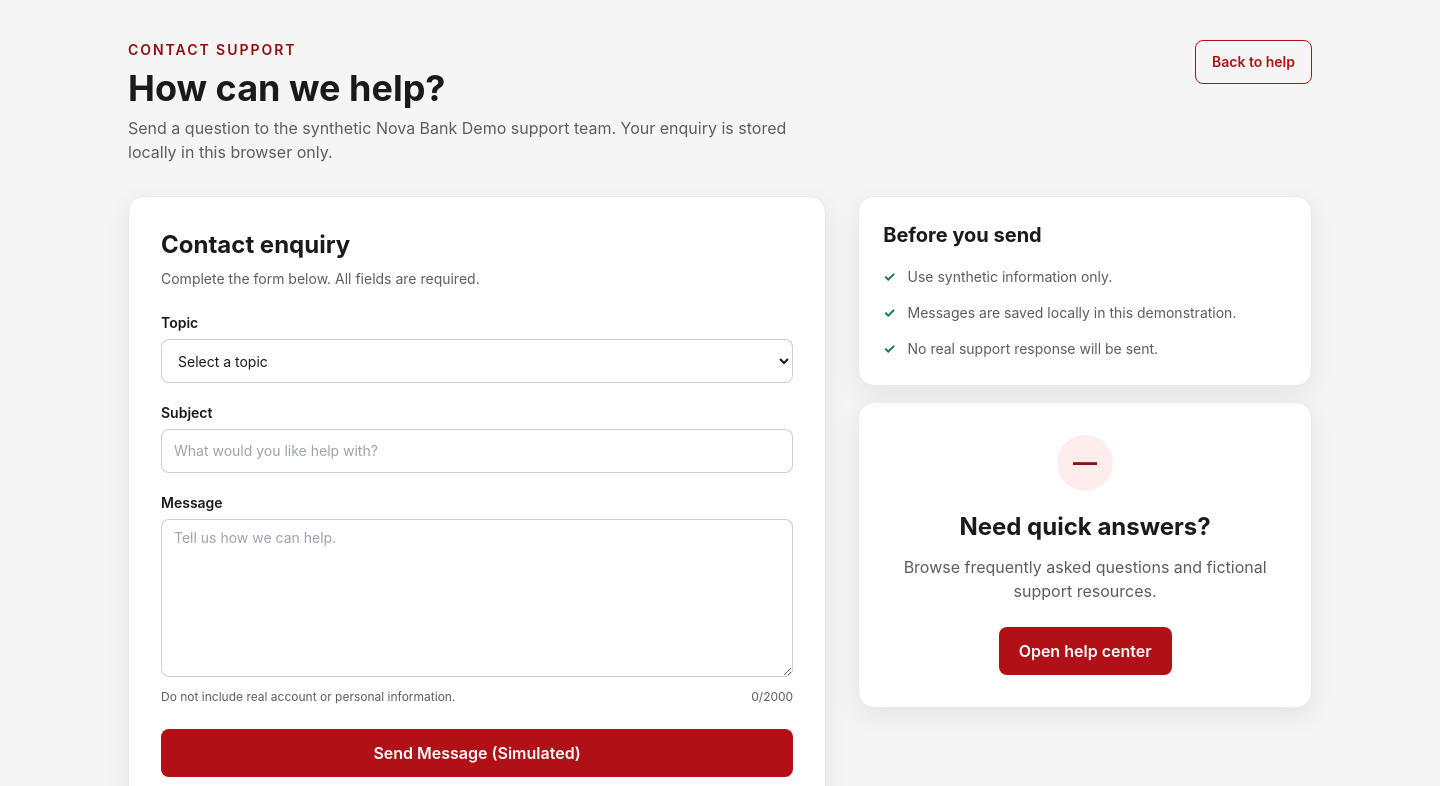
Test case: ContactPage › shows accessible validation feedback when required fields are empty
Click the button "Send Message (Simulated)". click: (477, 753)
box: [161,729,793,777]
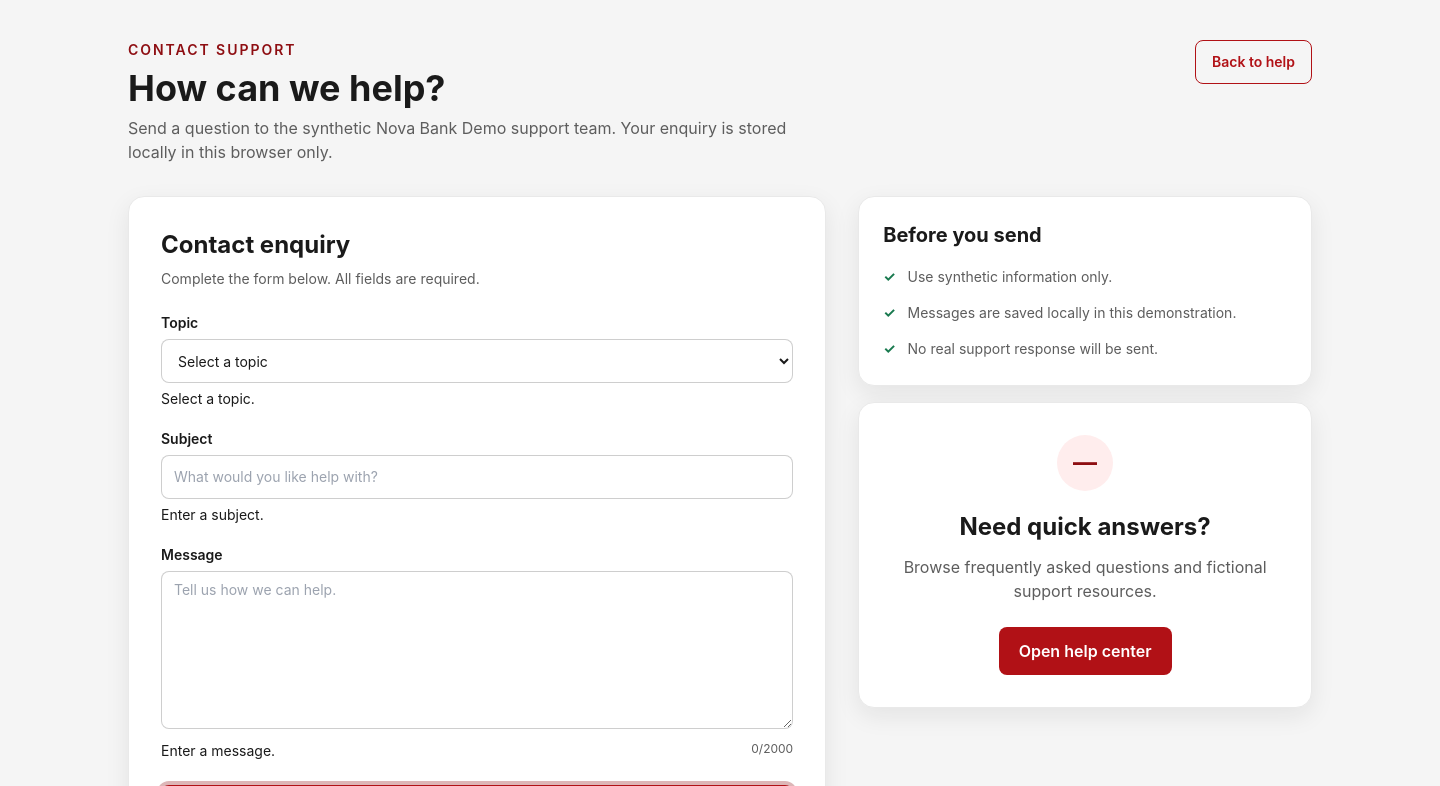
Result: the text "Select a topic." is shown at [161,390,255,407]
Result: the text "Enter a subject." is shown at [161,506,264,523]
Result: the text "Enter a message." is shown at [161,741,275,761]
